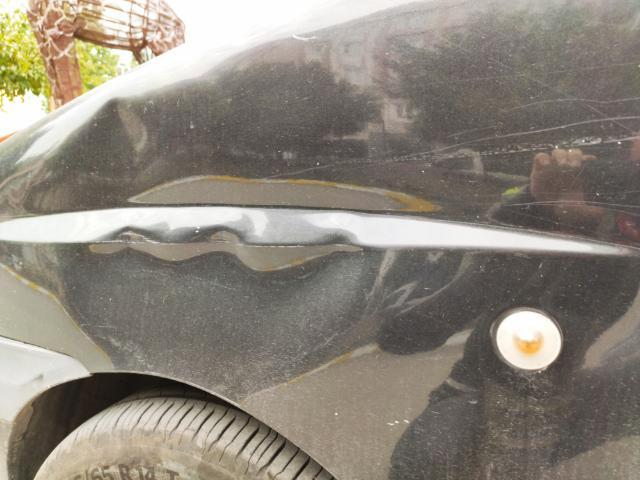dent: (56, 212, 368, 395), (67, 100, 160, 179)
